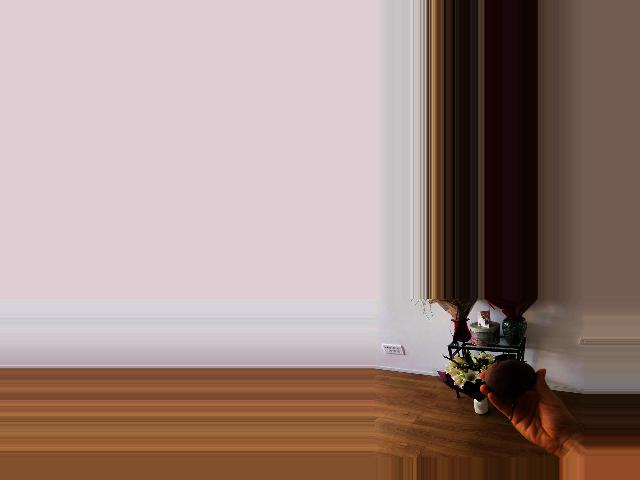beet: (483, 354, 535, 423)
